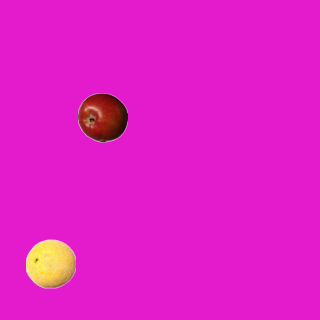Apple Braeburn: (77, 92, 127, 142)
Cantaloupe 1: (25, 238, 75, 288)
